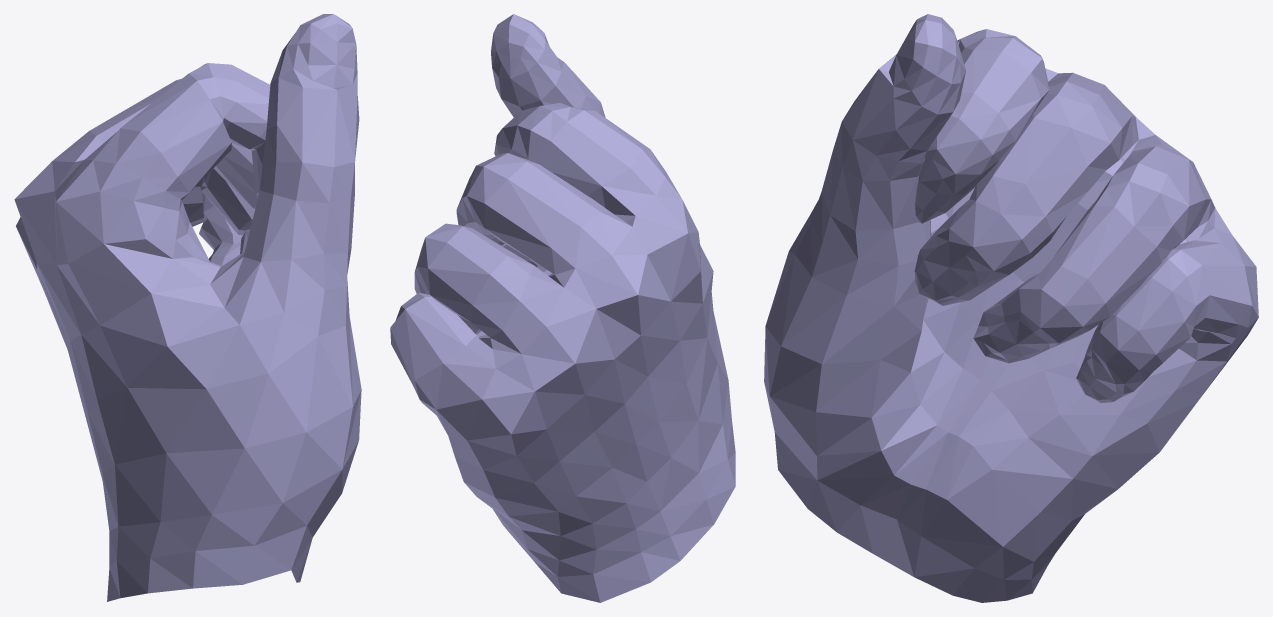
The model's file is frame_0048_source_000048_hand.glb.
3 views of the same model, side by side, from view 1: azimuth 30°, elevation 25°; view 2: azimuth 150°, elevation 25°; view 3: azimuth 270°, elevation 25° (orthographic). The views are drawn at different scales.
Visible parts, largest first — view 1: world; view 2: world; view 3: world.
Boxes of the visible parts, <box> form: world: <box>14,14,361,601</box>; world: <box>390,14,735,602</box>; world: <box>764,14,1258,602</box>.
Bounding box in the file's own units: 0.0615 × 0.1272 × 0.0909.
